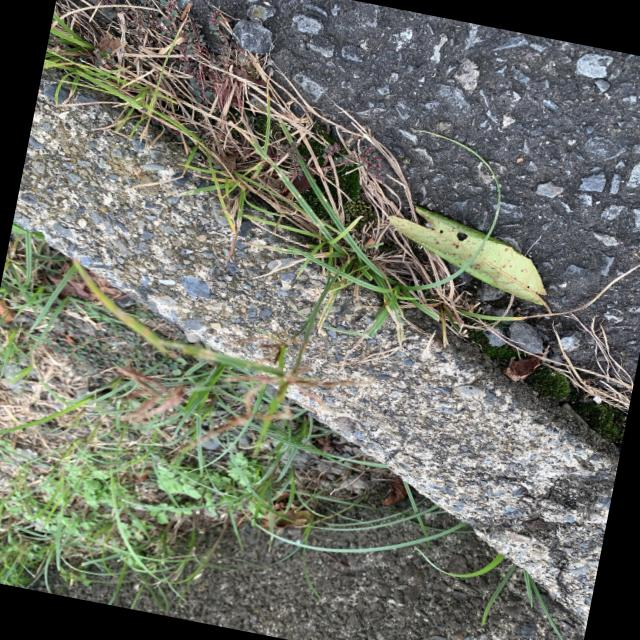cyperus: (90, 289, 372, 501)
